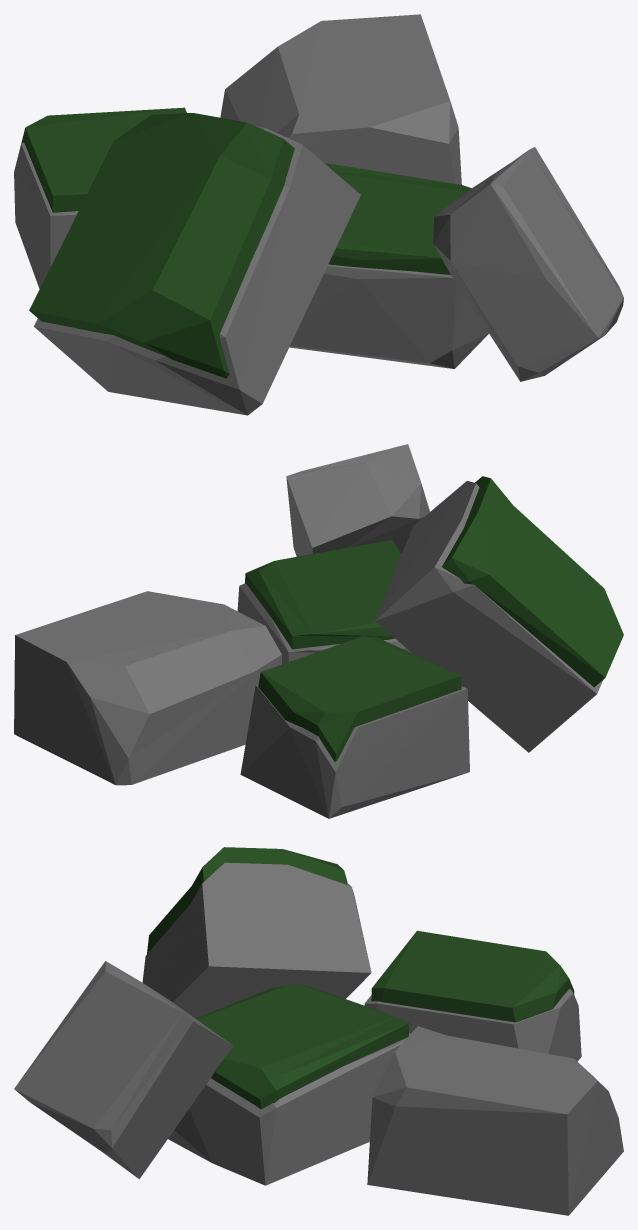
Rendered from SM_pile_blocks_02.fbx.
The picture shows the model from 3 angles, top to bottom: view 1: azimuth 30°, elevation 25°; view 2: azimuth 150°, elevation 25°; view 3: azimuth 270°, elevation 25°; orthographic projection. The views are drawn at different scales.
Visible parts, largest first — view 1: Object109; view 2: Object109; view 3: Object109.
Boxes of the visible parts, box(x1,y1,x2,y2) form: Object109: box(14, 14, 623, 415); Object109: box(14, 444, 623, 818); Object109: box(14, 847, 623, 1215).
Size of the model in its own units: 101 by 48.49 by 114.
